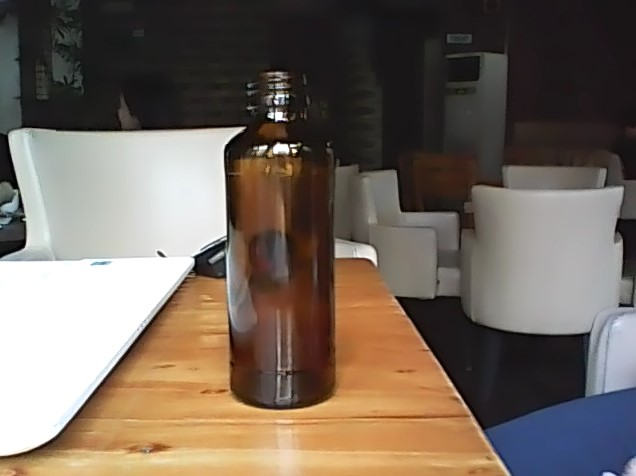Glass: (221, 68, 343, 415)
